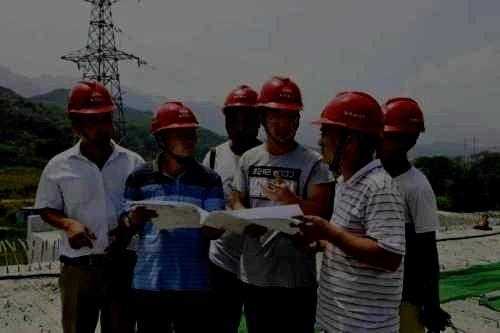helmet: (309, 89, 386, 166), (253, 76, 304, 142), (67, 79, 117, 145), (378, 96, 425, 158), (150, 99, 200, 156), (221, 84, 262, 143)
